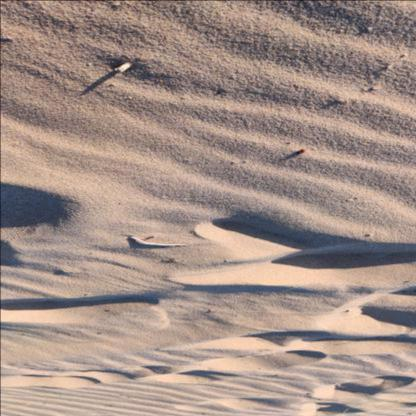Straw: (130, 236, 187, 245)
